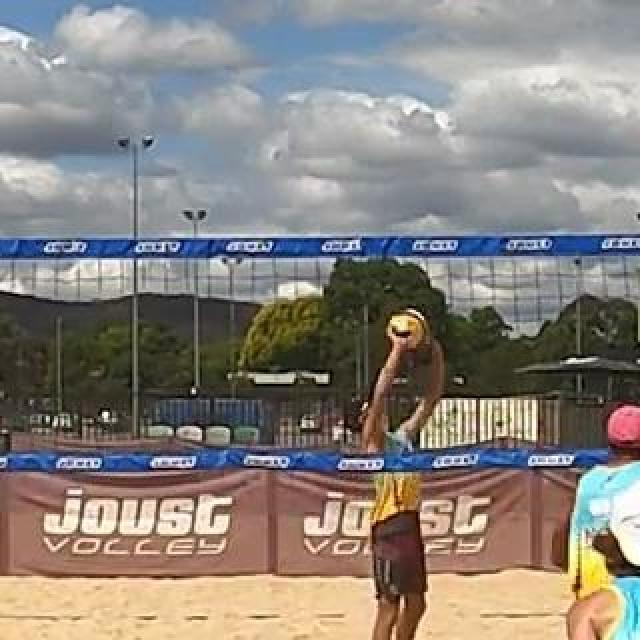volleyball: (388, 310, 424, 346)
